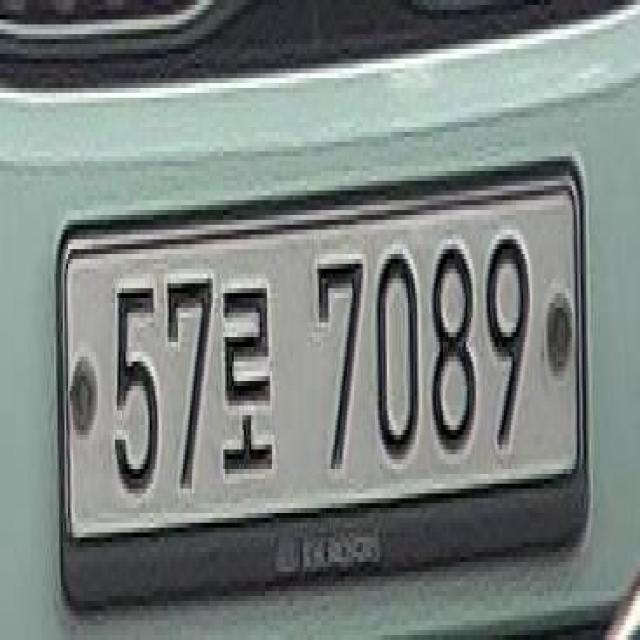0: (373, 236, 423, 472)
5: (110, 265, 160, 498)
7: (164, 263, 214, 505), (316, 240, 366, 481)
8: (428, 222, 478, 467)
9: (484, 220, 534, 462)
license_plate: (53, 141, 596, 635)
lo: (218, 262, 276, 490)
